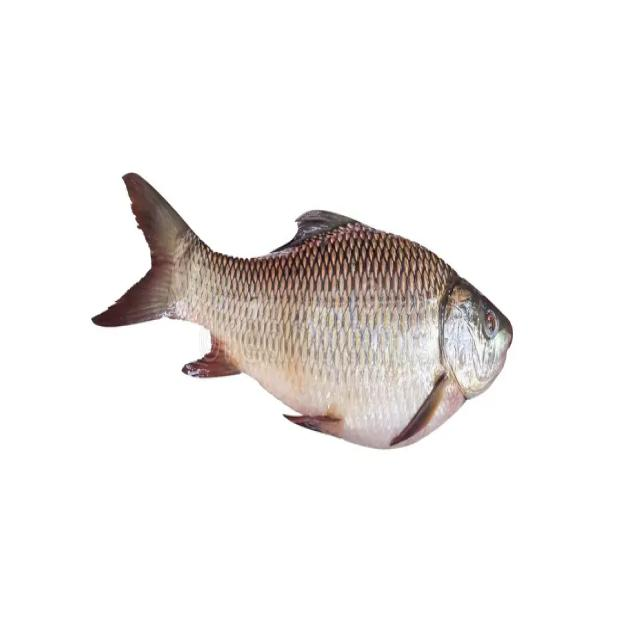Common carp: (91, 172, 514, 450)
